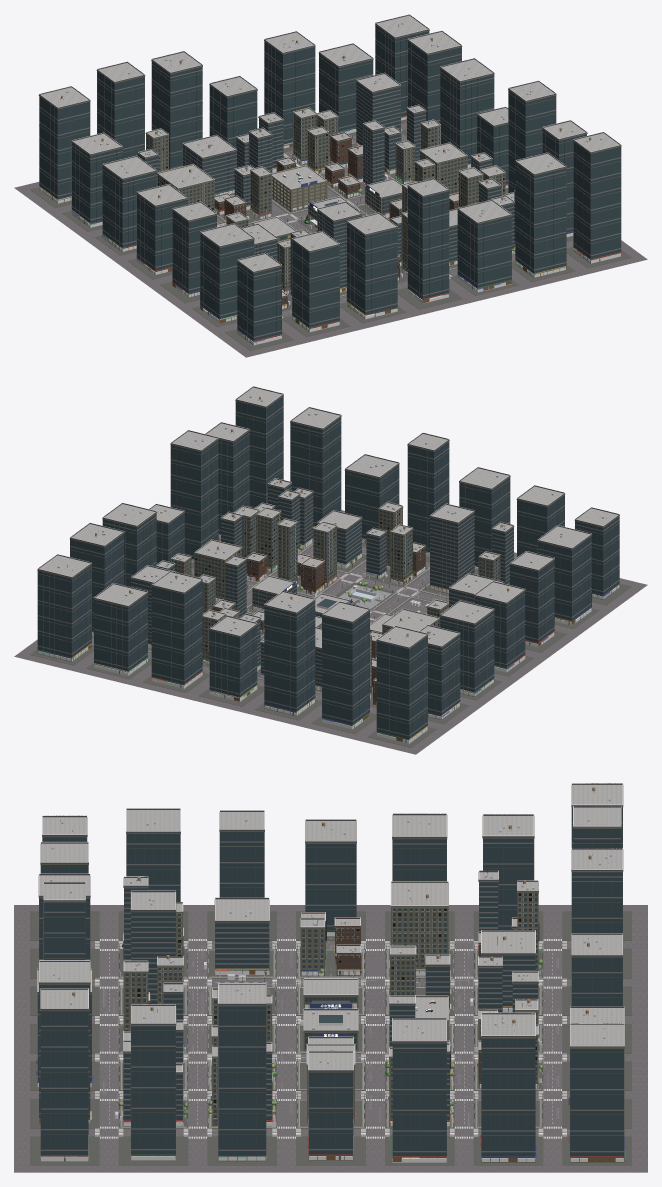
Rendered from map_mall.glb.
3 views of the same model, one above another, from view 1: azimuth 30°, elevation 25°; view 2: azimuth 150°, elevation 25°; view 3: azimuth 270°, elevation 25° (orthographic). The views are drawn at different scales.
Parts seen in each view (by area): view 1: Ground_road, Ring_112_168, Ring_168_168, Ground_sidewalk, Ring_0_168, Ring_-56_168, Ring_-56_-168, Ring_56_168, Ring_-168_-168, Ring_-112_168, Ring_56_-168, Ring_168_-56 (+39 smaller); view 2: Ground_road, Ring_-56_-168, Ground_sidewalk, Ring_-112_-168, Ring_-168_-168, Ring_56_-168, Ring_168_-168, Ring_168_56, Ring_112_168, Ring_112_-168, Ring_168_168, Ring_0_168 (+36 smaller); view 3: Ground_road, Ground_sidewalk, Ring_168_56, Ring_168_168, Ring_168_-112, Ring_168_-56, Ring_168_-168, Ring_168_112, Ground_markings, Ring_-168_0, Ring_168_0, Ring_-56_-168 (+39 smaller).
Boxes of the visible parts, x1=… form: Ground_road: x1=14, y1=122, x2=647, y2=357; Ring_112_168: x1=515, y1=152, x2=566, y2=277; Ring_168_168: x1=573, y1=132, x2=621, y2=263; Ground_sidewalk: x1=30, y1=119, x2=631, y2=350; Ring_0_168: x1=407, y1=178, x2=449, y2=303; Ring_-56_168: x1=346, y1=212, x2=397, y2=318; Ring_-56_-168: x1=151, y1=51, x2=202, y2=169; Ring_56_168: x1=457, y1=199, x2=512, y2=290; Ring_-168_-168: x1=38, y1=86, x2=90, y2=203; Ring_-112_168: x1=291, y1=230, x2=339, y2=331; Ring_56_-168: x1=264, y1=31, x2=315, y2=148; Ring_168_-56: x1=440, y1=58, x2=494, y2=164; Ground_road: x1=14, y1=510, x2=647, y2=754; Ring_-56_-168: x1=264, y1=590, x2=315, y2=716; Ground_sidewalk: x1=30, y1=538, x2=631, y2=747; Ring_-112_-168: x1=321, y1=601, x2=370, y2=727; Ring_-168_-168: x1=376, y1=626, x2=428, y2=742; Ring_56_-168: x1=151, y1=571, x2=202, y2=687; Ring_168_-168: x1=37, y1=554, x2=91, y2=661; Ring_168_56: x1=170, y1=430, x2=218, y2=563; Ring_112_168: x1=290, y1=407, x2=341, y2=527; Ring_112_-168: x1=93, y1=583, x2=148, y2=673; Ring_168_168: x1=235, y1=386, x2=283, y2=508; Ring_0_168: x1=407, y1=432, x2=449, y2=553; Ground_road: x1=14, y1=905, x2=647, y2=1172; Ground_sidewalk: x1=30, y1=911, x2=631, y2=1165; Ring_168_56: x1=217, y1=983, x2=266, y2=1161; Ring_168_168: x1=40, y1=988, x2=88, y2=1161; Ring_168_-112: x1=480, y1=1012, x2=536, y2=1162; Ring_168_-56: x1=391, y1=1018, x2=447, y2=1161; Ring_168_-168: x1=568, y1=1023, x2=625, y2=1162; Ring_168_112: x1=129, y1=1004, x2=176, y2=1159; Ground_markings: x1=95, y1=939, x2=566, y2=1138; Ring_-168_0: x1=305, y1=819, x2=356, y2=936; Ring_168_0: x1=307, y1=1051, x2=353, y2=1160; Ring_-56_-168: x1=570, y1=848, x2=623, y2=989.
Bounding box in the file's own units: 400 × 110 × 400.
Materials: 77 (10 with a texture image).
